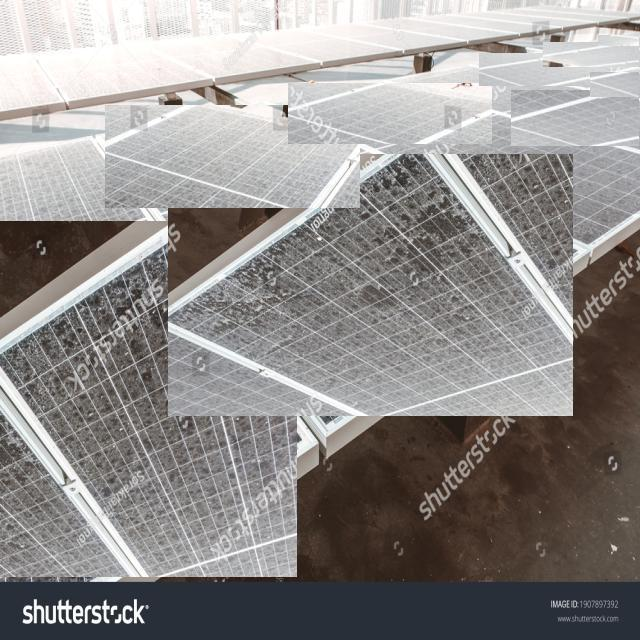Dusty: (169, 154, 573, 416), (0, 221, 297, 577), (392, 116, 638, 244), (106, 105, 360, 208), (1, 139, 141, 257), (288, 83, 492, 144), (395, 66, 579, 111), (512, 91, 639, 146), (479, 54, 640, 86), (544, 43, 639, 67), (591, 72, 639, 97), (598, 36, 639, 46)
